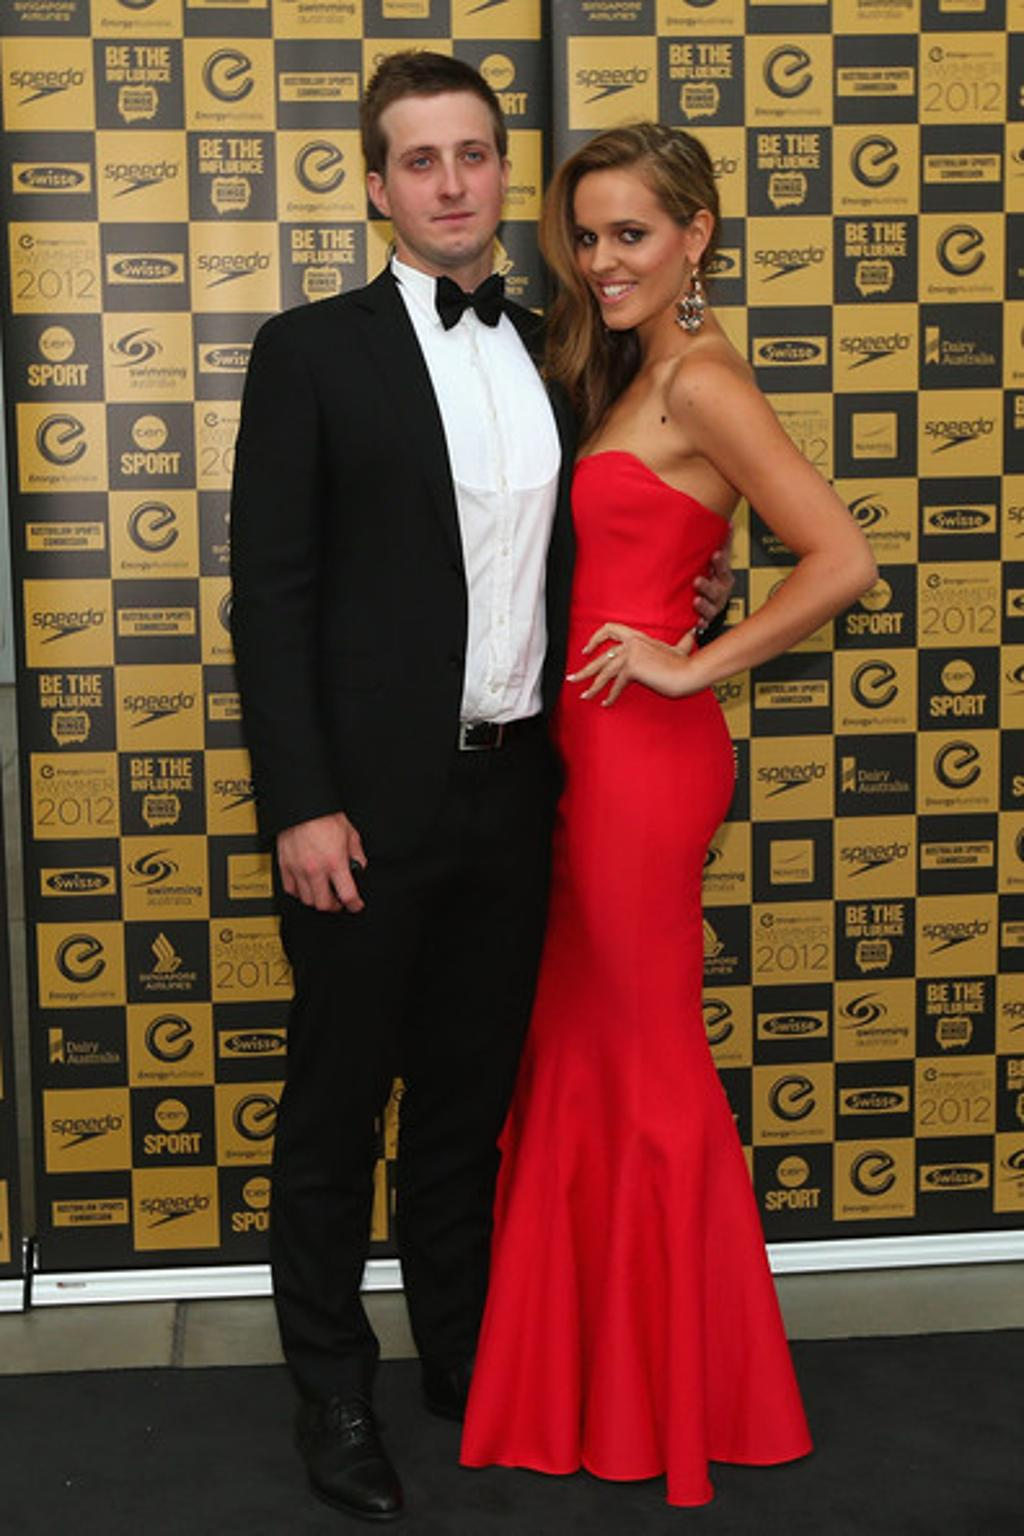face: (366, 105, 507, 246), (580, 183, 676, 333)
